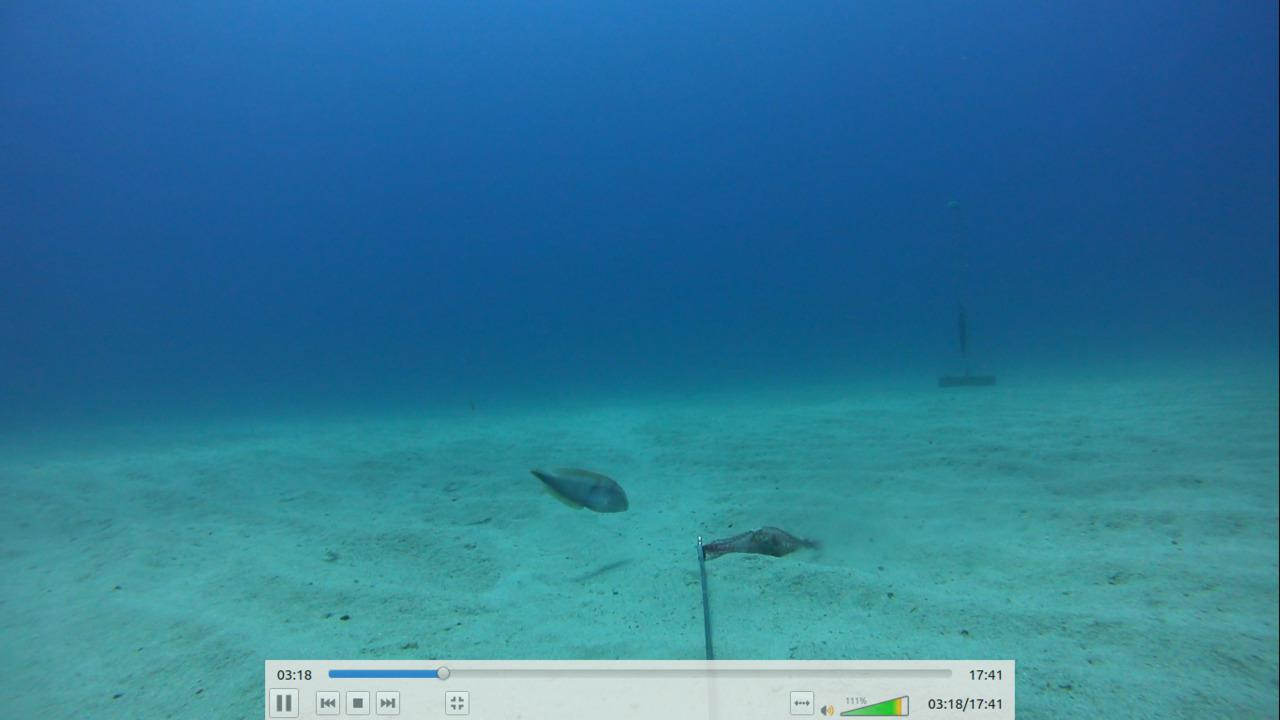raor: (525, 456, 636, 519)
